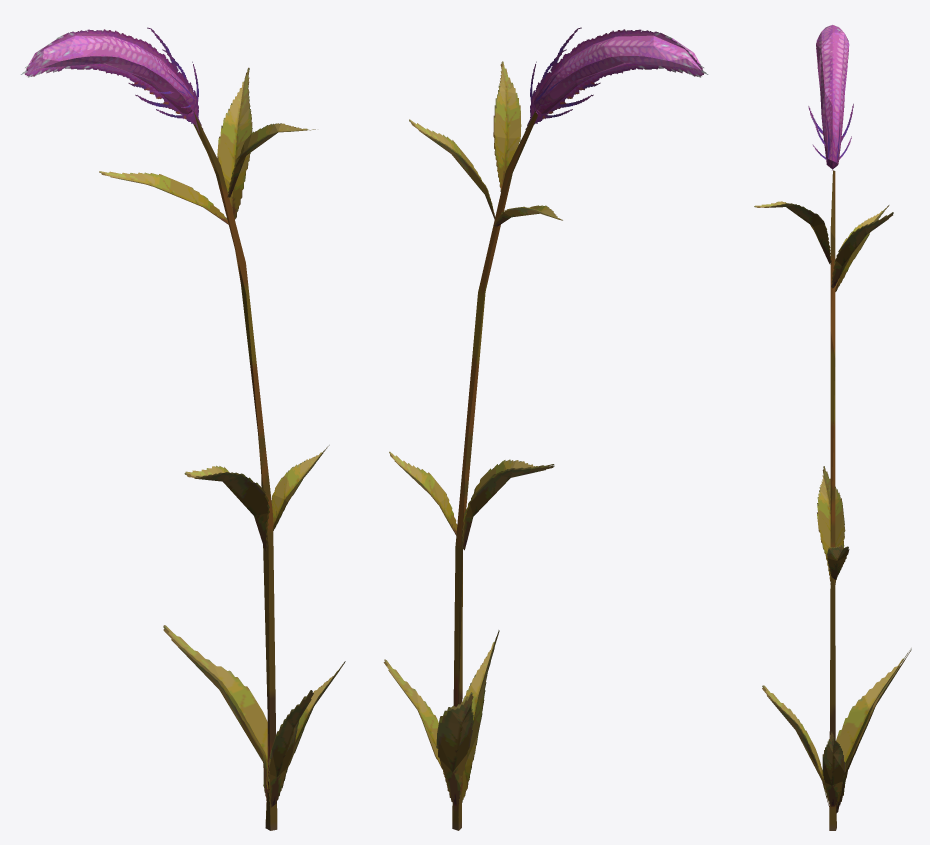
File: gi-HorseTail.glb
3 renders of one model, left to right at view 1: azimuth 30°, elevation 25°; view 2: azimuth 150°, elevation 25°; view 3: azimuth 270°, elevation 25°, orthographic. The views are drawn at different scales.
Visible parts, largest first — view 1: gi-HorseTail; view 2: gi-HorseTail; view 3: gi-HorseTail.
Boxes of the visible parts, x1=… form: gi-HorseTail: x1=20, y1=27, x2=345, y2=830; gi-HorseTail: x1=383, y1=27, x2=708, y2=830; gi-HorseTail: x1=754, y1=25, x2=911, y2=830.
Size of the model in its own units: 0.738 by 1.8 by 0.3867.
1 material, 1 textured.
